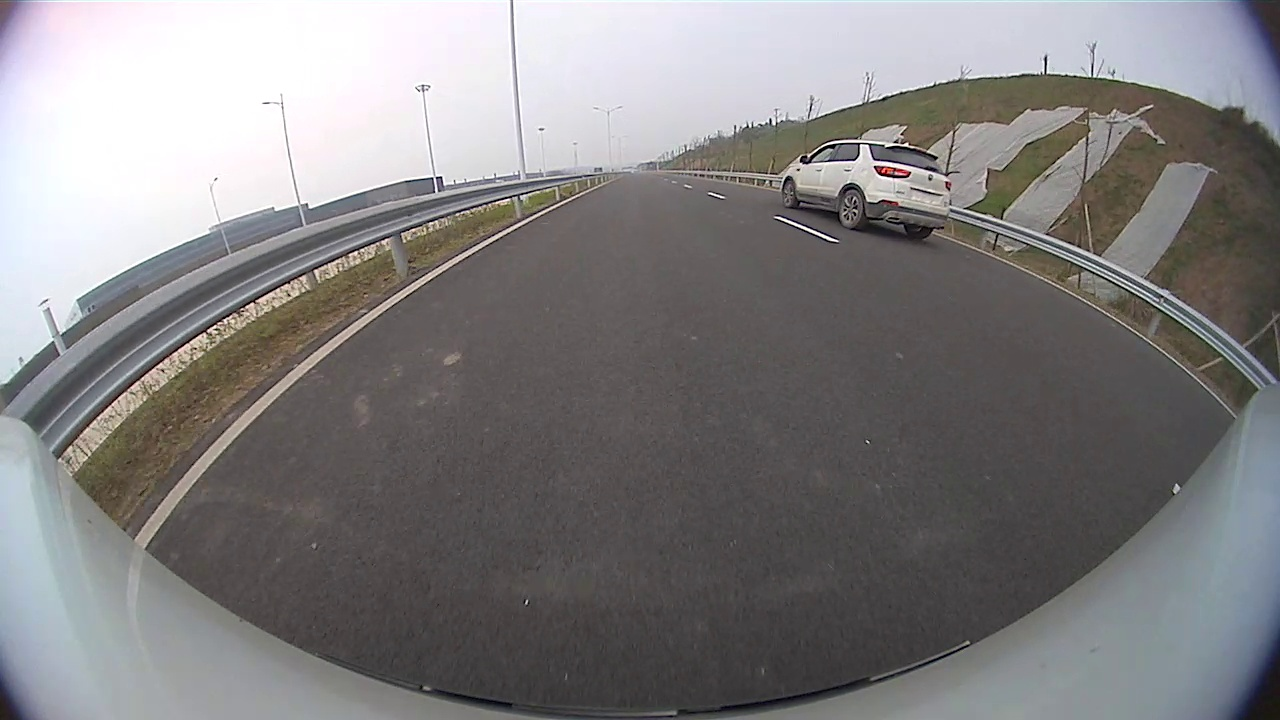car: (780, 139, 952, 239)
front: (781, 179, 799, 210)
rear: (838, 188, 869, 232)
